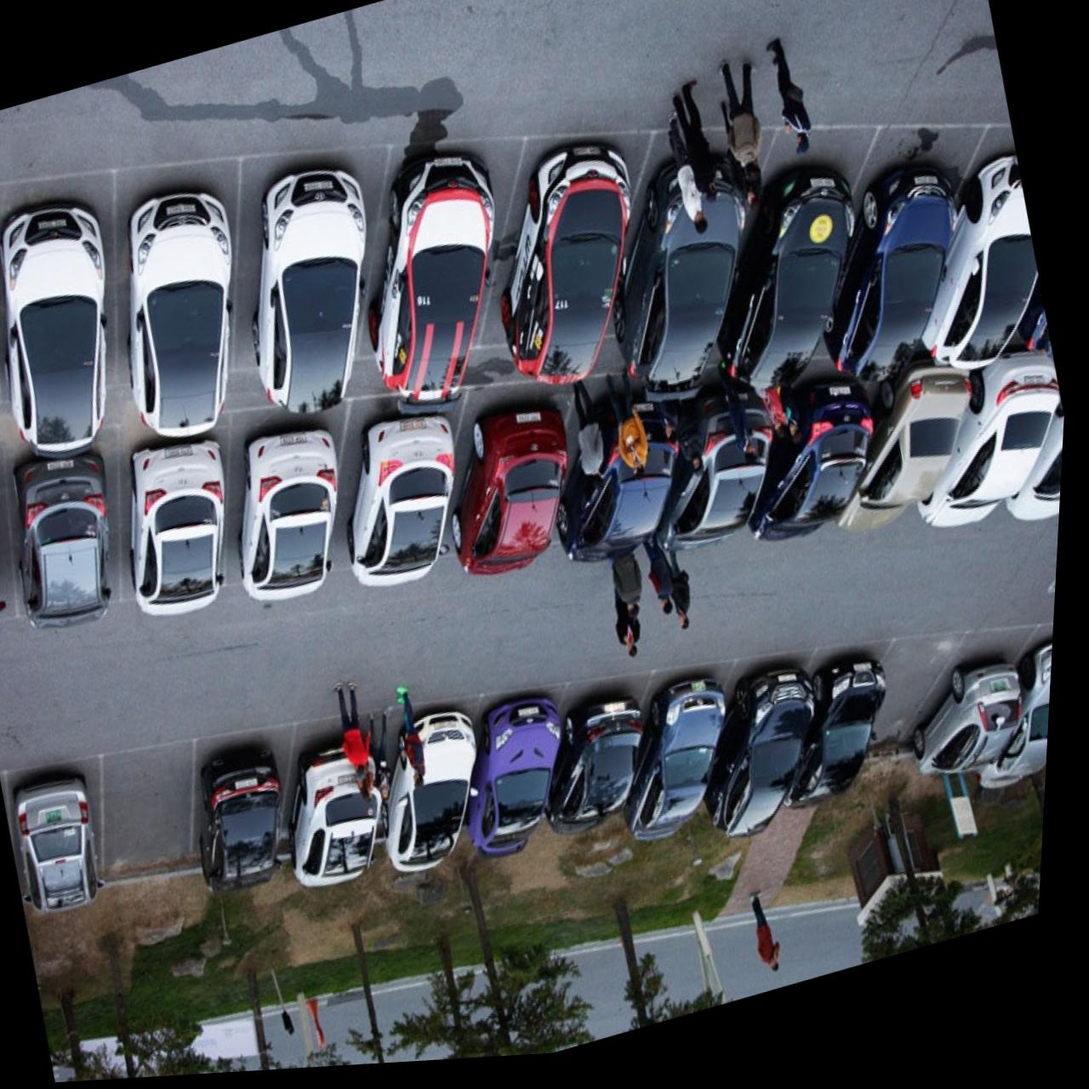cars: (435, 122, 704, 405), (669, 112, 917, 391), (180, 138, 415, 432), (317, 131, 567, 402), (72, 149, 299, 441), (789, 116, 1037, 383), (557, 117, 798, 389), (0, 153, 170, 459), (632, 351, 817, 591), (529, 362, 718, 591), (204, 386, 388, 616), (306, 377, 494, 602), (425, 372, 613, 594), (728, 350, 911, 576), (830, 336, 1005, 554), (756, 602, 927, 822), (98, 427, 265, 640), (0, 422, 155, 649), (900, 340, 1068, 546), (682, 639, 851, 829), (604, 657, 761, 854), (263, 703, 417, 900), (353, 686, 509, 879), (893, 599, 1055, 783), (528, 654, 679, 847), (444, 680, 589, 868), (177, 705, 322, 889), (0, 747, 134, 923), (951, 614, 1054, 805), (0, 181, 44, 461)
empty: (835, 597, 996, 781), (85, 725, 221, 896)
